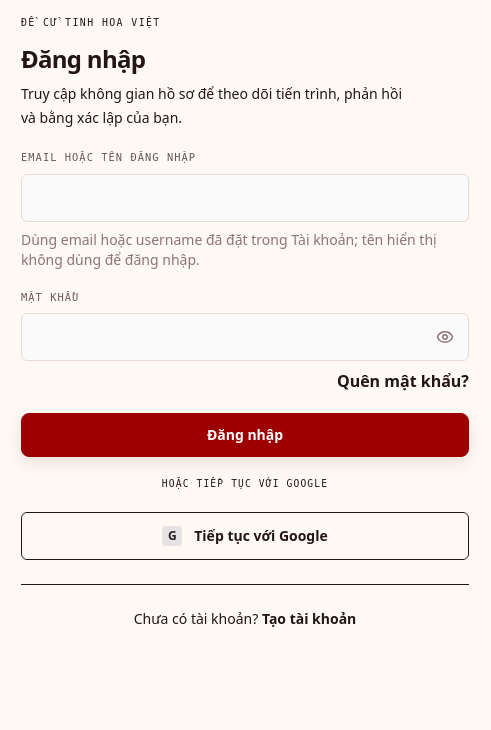
Test case: LoginForm › explains when a Firebase account is not linked to the platform account
The image size is (491, 730).
Type "admin@example.vn" into the field labelled "Email hoặc tên đăng nhập".
click(245, 198); type("admin@example.vn")  # box [21,174,469,222]
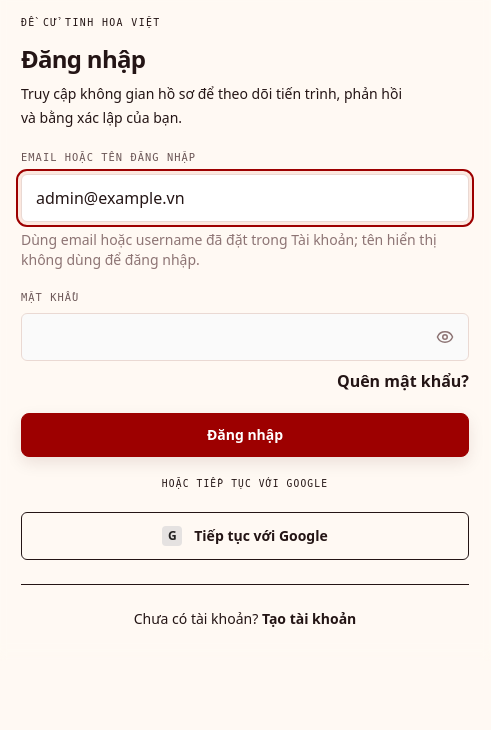
Type "valid password" into the password field labelled "Mật khẩu".
click(245, 337); type("valid password")  # box [21,313,469,361]
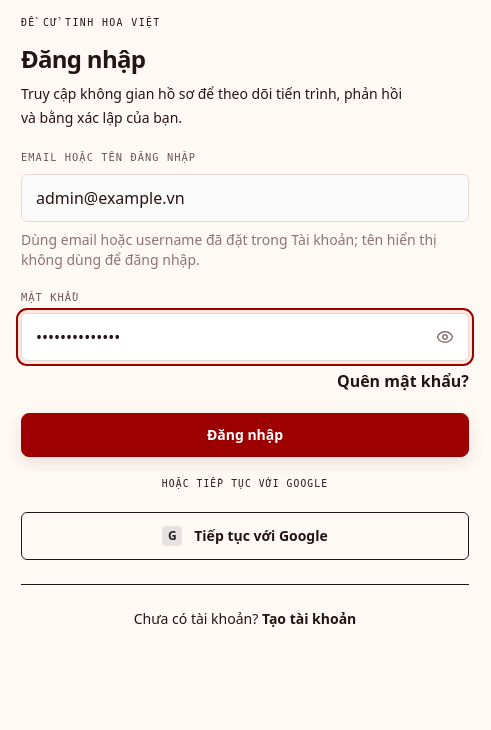
Click the button "Đăng nhập".
click(245, 435)  # box [21,413,469,457]
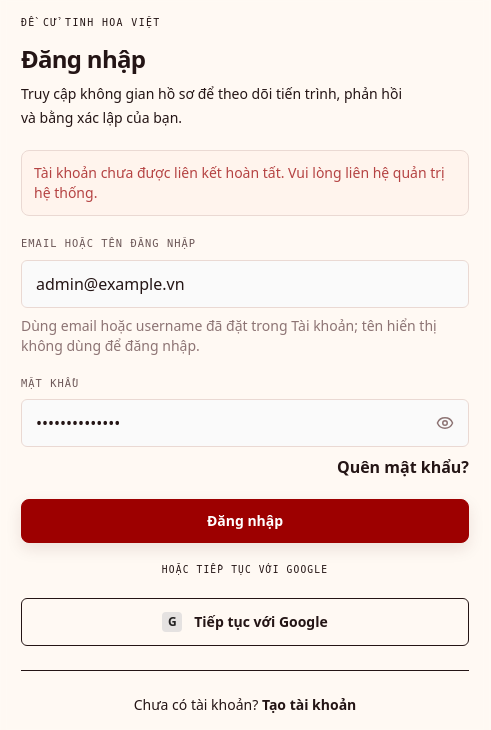
Expected: the text "Tài khoản chưa được liên kết hoàn tất. Vui lòng liên hệ quản trị hệ thống." is shown, [21,150,469,216]
